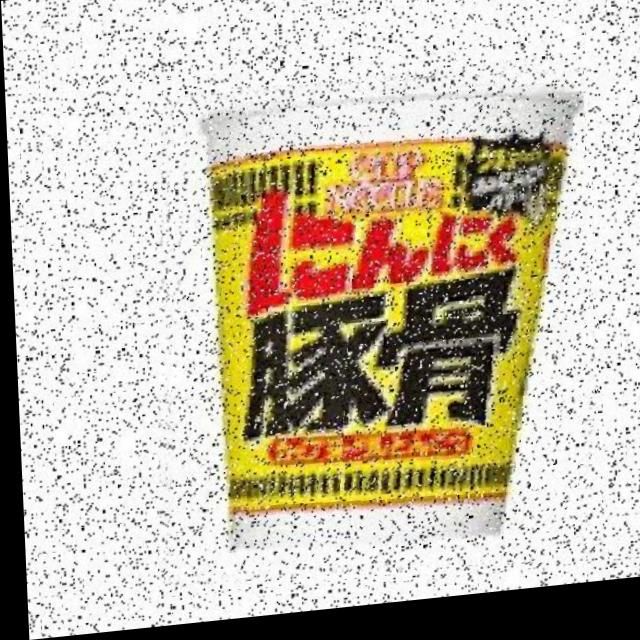Miscellaneous: (140, 64, 597, 600)
